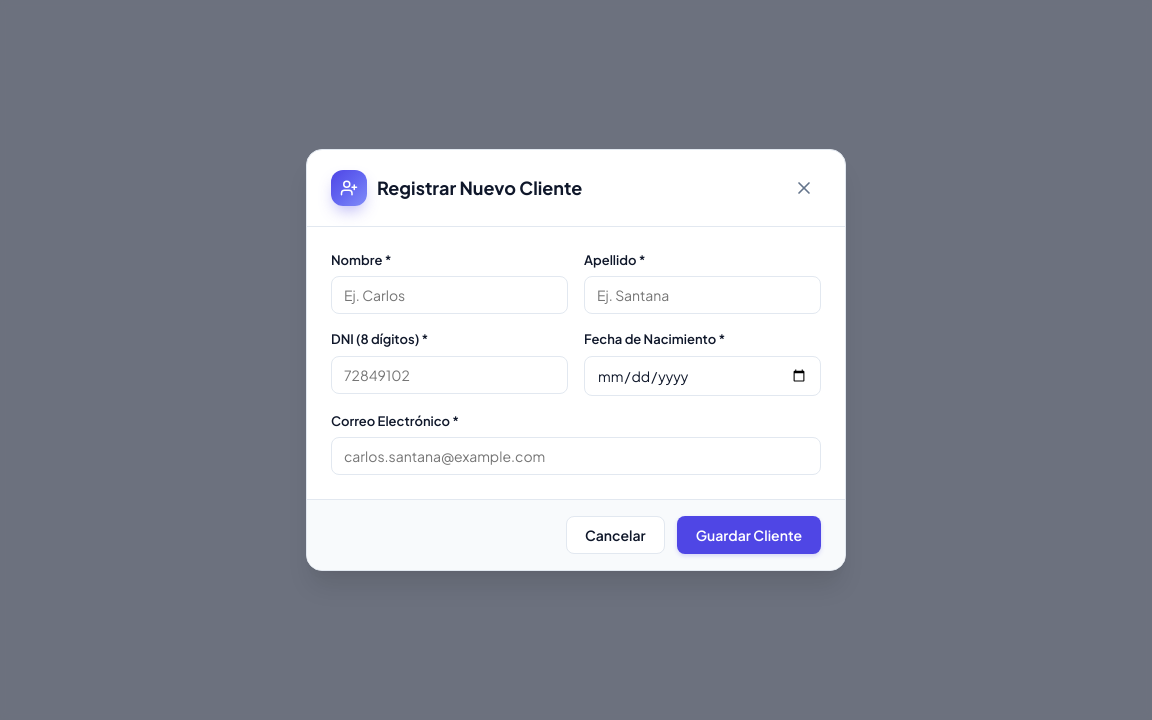
CustomerFormModal Component › debe validar que el DNI tenga exactamente 8 dígitos
The image size is (1152, 720).
Type "123" into the field with placeholder "72849102" at (450, 375), box [331,356,568,394]
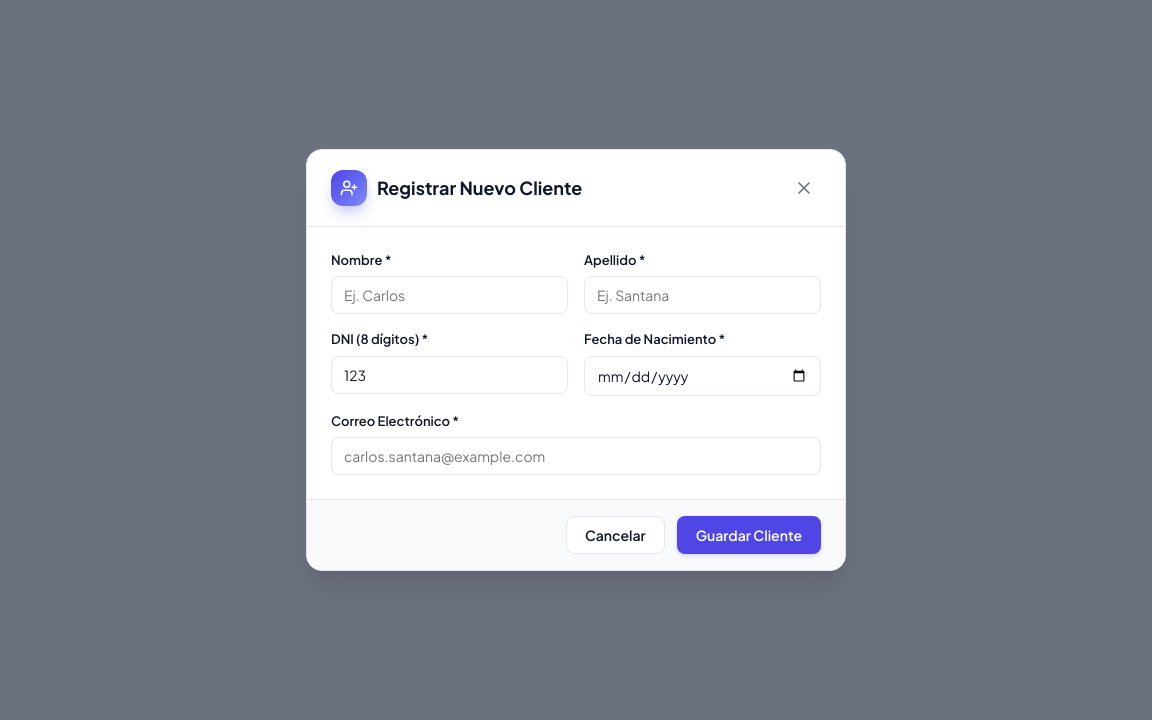
Click the button "Guardar Cliente" at (749, 535), box [677,516,821,554]
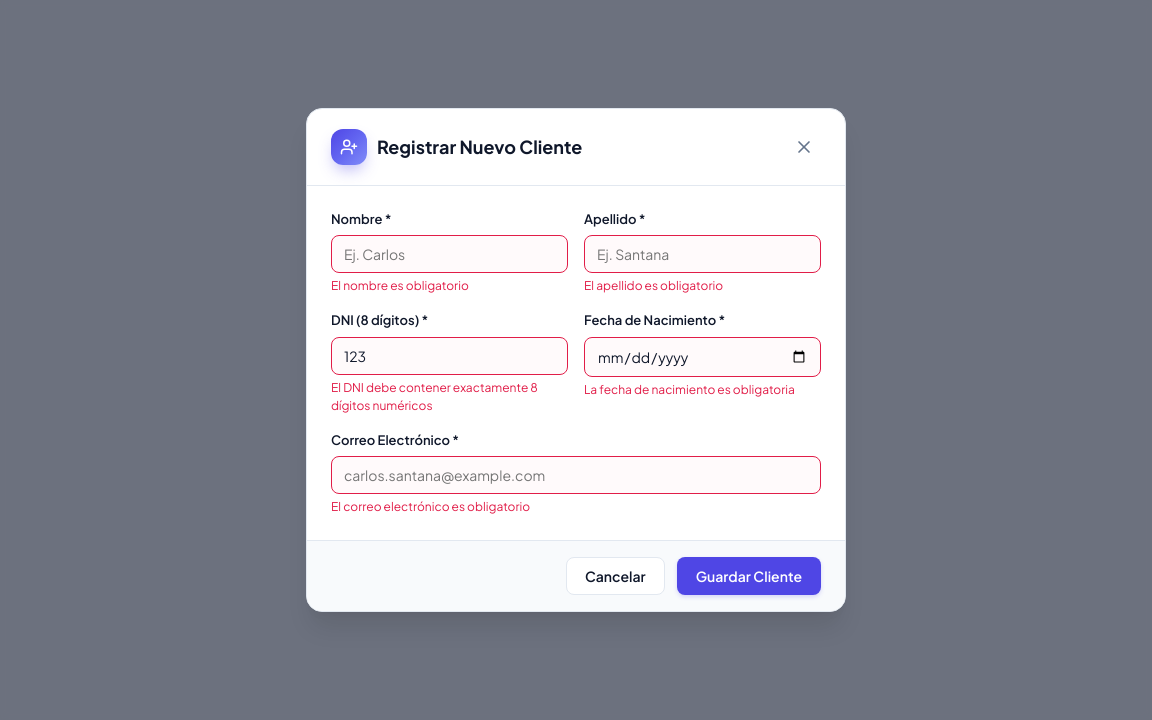
Expected: the text "El DNI debe contener exactamente 8 dígitos numéricos" is shown, [331,379,568,415]
